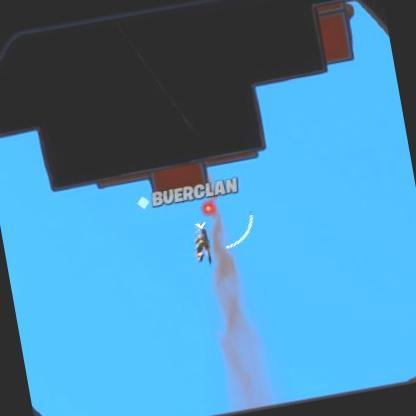person: (194, 228, 212, 262)
